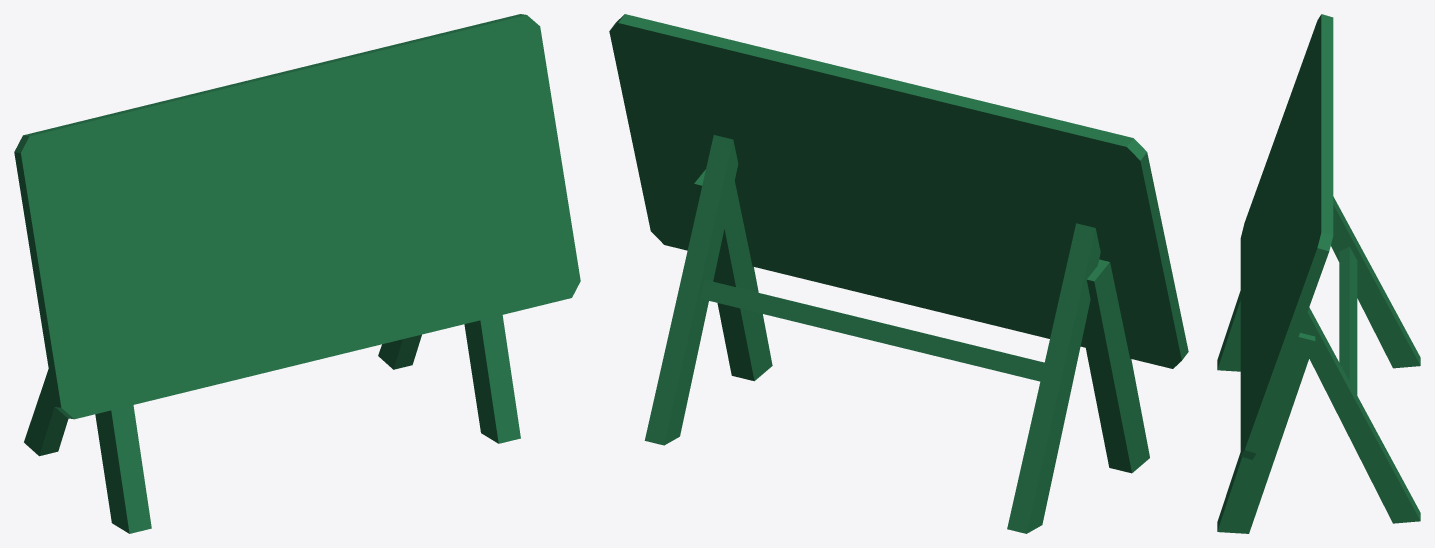
The model's file is rectangle_Sign.fbx.
3 renders of one model, left to right at view 1: azimuth 30°, elevation 25°; view 2: azimuth 150°, elevation 25°; view 3: azimuth 270°, elevation 25°, orthographic. The views are drawn at different scales.
Visible parts, largest first — view 1: pCube12; view 2: pCube12; view 3: pCube12.
Part boxes in pixels (box(x1,y1,x2,y2)): pCube12: box(14, 14, 580, 533); pCube12: box(609, 14, 1188, 533); pCube12: box(1217, 14, 1420, 533).
Size of the model in its own units: 1.49 by 1.01 by 0.5637.
